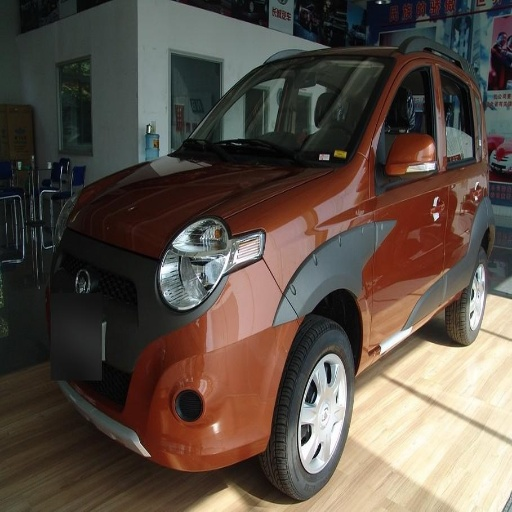front_bumper: (53, 273, 299, 469)
front_glass: (186, 54, 393, 165)
front_left_door: (373, 55, 448, 339)
